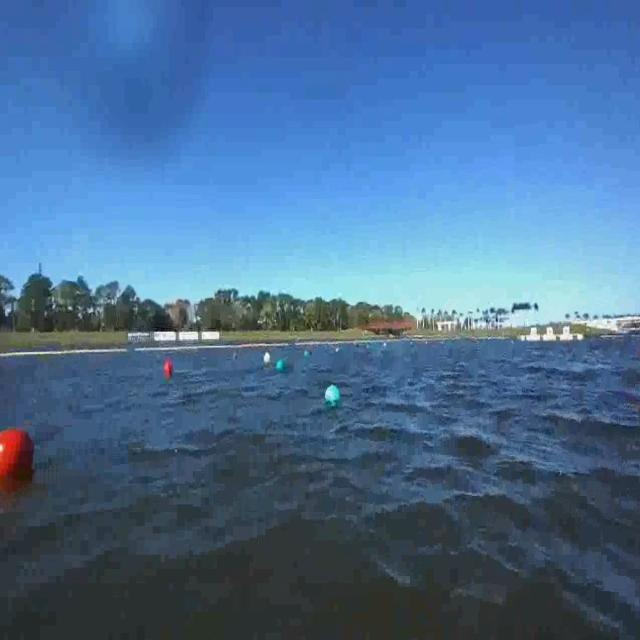green-buoy: (325, 386, 340, 410), (276, 358, 286, 372)
red-buoy: (0, 430, 35, 477), (0, 433, 11, 475)
red-column-buoy: (163, 358, 172, 379)
